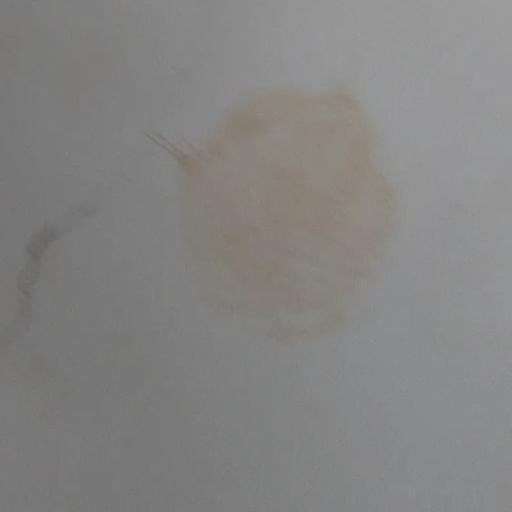stain: (155, 43, 424, 376), (0, 198, 134, 330)
